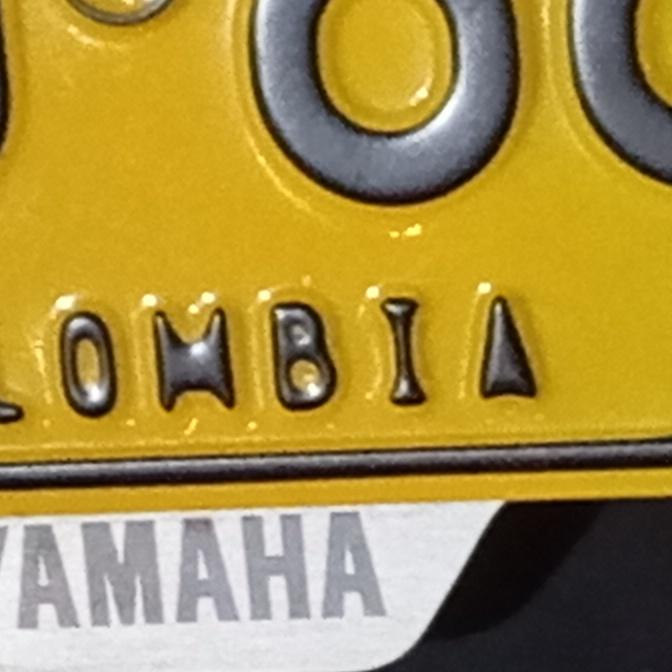plates: (0, 0, 672, 539)
